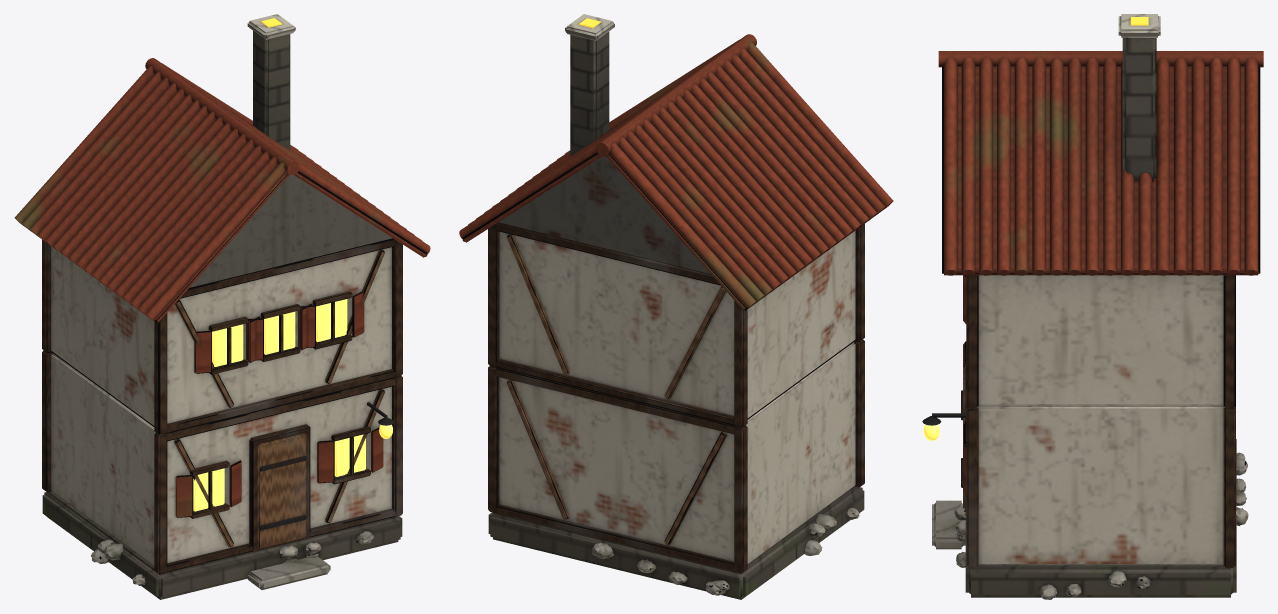
File: cenario_casa_sobrado.glb
3 renders of one model, left to right at view 1: azimuth 30°, elevation 25°; view 2: azimuth 150°, elevation 25°; view 3: azimuth 270°, elevation 25°, orthographic. The views are drawn at different scales.
Visible parts, largest first — view 1: cenario_casa_sobrado, cenario_casa_sobrado_porta; view 2: cenario_casa_sobrado; view 3: cenario_casa_sobrado.
Part boxes in pixels (x1,y1,x2,y2): cenario_casa_sobrado: (14, 14, 430, 599); cenario_casa_sobrado_porta: (257, 433, 306, 548); cenario_casa_sobrado: (459, 14, 893, 599); cenario_casa_sobrado: (922, 14, 1263, 599).
Bounding box in the file's own units: 5.51 × 8.92 × 5.04.
4 materials, 2 textured.
